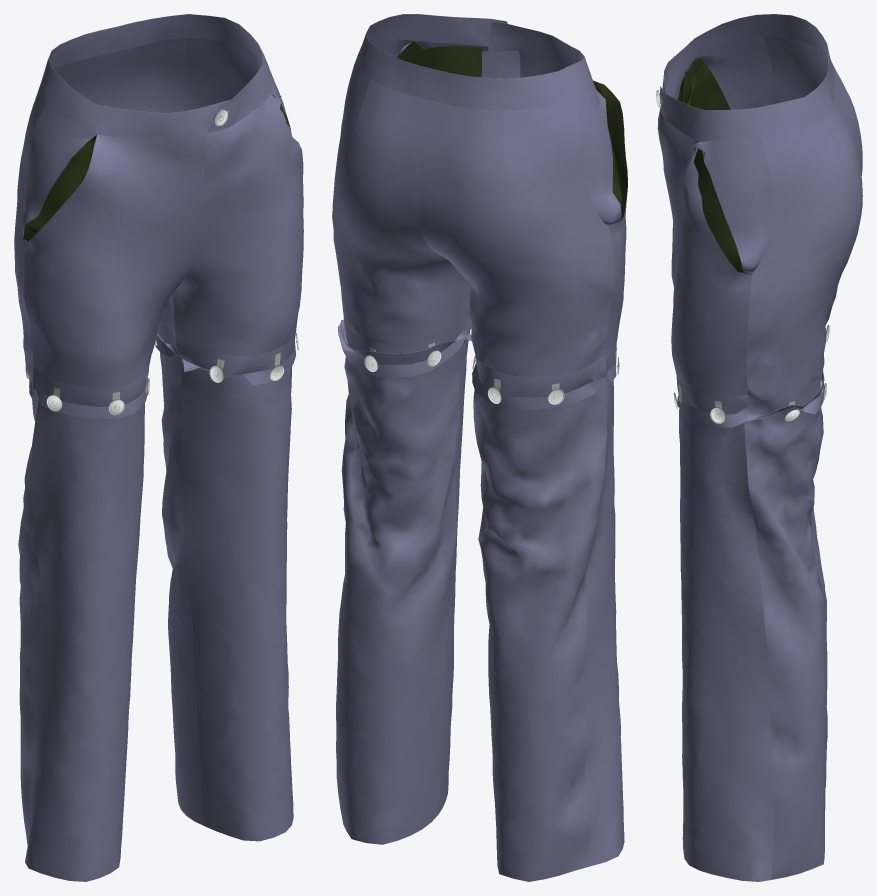
3 views of the same model, side by side, from view 1: azimuth 30°, elevation 25°; view 2: azimuth 150°, elevation 25°; view 3: azimuth 270°, elevation 25° (orthographic). The views are drawn at different scales.
Visible parts, largest first — view 1: Pattern2D_131061, Pattern2D_131218, Pattern2D_130941, Pattern2D_131243, OPC00WAB4, Pattern2D_132626, Pattern2D_132657, Pattern2D_132467, Pattern2D_132357, Pattern2D_766543, Pattern2D_766548; view 2: Pattern2D_132626, Pattern2D_132467, Pattern2D_132357, Pattern2D_132657, OPC00WAB4, Pattern2D_131061, Pattern2D_766543, Pattern2D_131218, Pattern2D_130941, Pattern2D_766546, Pattern2D_766549, FLF_1; view 3: Pattern2D_131218, Pattern2D_132626, Pattern2D_132657, Pattern2D_131243, OPC00WAB4, Pattern2D_766545, Pattern2D_766543, Pattern2D_132357, Pattern2D_766546, Pattern2D_766548, Pattern2D_132467, Pattern2D_130941.
Boxes of the visible parts, bbox=[...] form: Pattern2D_131061: bbox=[25, 399, 144, 881]; Pattern2D_131218: bbox=[180, 359, 293, 841]; Pattern2D_130941: bbox=[24, 133, 207, 419]; Pattern2D_131243: bbox=[172, 94, 303, 385]; OPC00WAB4: bbox=[40, 14, 273, 138]; Pattern2D_132626: bbox=[155, 336, 204, 825]; Pattern2D_132657: bbox=[102, 38, 258, 354]; Pattern2D_132467: bbox=[18, 392, 40, 845]; Pattern2D_132357: bbox=[14, 52, 114, 397]; Pattern2D_766543: bbox=[22, 103, 96, 240]; Pattern2D_766548: bbox=[23, 135, 96, 241]; Pattern2D_132626: bbox=[336, 323, 467, 844]; Pattern2D_132467: bbox=[473, 378, 607, 881]; Pattern2D_132357: bbox=[419, 97, 614, 410]; Pattern2D_132657: bbox=[332, 55, 471, 365]; OPC00WAB4: bbox=[358, 14, 593, 110]; Pattern2D_131061: bbox=[584, 377, 624, 866]; Pattern2D_766543: bbox=[576, 83, 621, 227]; Pattern2D_131218: bbox=[438, 330, 471, 813]; Pattern2D_130941: bbox=[519, 51, 626, 381]; Pattern2D_766546: bbox=[397, 41, 481, 77]; Pattern2D_766549: bbox=[593, 80, 627, 218]; FLF_1: bbox=[481, 51, 520, 78]; Pattern2D_131218: bbox=[679, 408, 773, 881]; Pattern2D_132626: bbox=[744, 390, 827, 879]; Pattern2D_132657: bbox=[746, 88, 862, 421]; Pattern2D_131243: bbox=[657, 107, 751, 427]; OPC00WAB4: bbox=[659, 14, 835, 141]; Pattern2D_766545: bbox=[692, 139, 772, 274]; Pattern2D_766543: bbox=[698, 36, 772, 109]; Pattern2D_132357: bbox=[763, 36, 862, 175]; Pattern2D_766546: bbox=[694, 148, 747, 273]; Pattern2D_766548: bbox=[682, 57, 730, 109]; Pattern2D_132467: bbox=[811, 508, 827, 787]; Pattern2D_130941: bbox=[666, 56, 697, 287].
Bounding box in the file's own units: 36.57 × 98.35 × 24.03.
